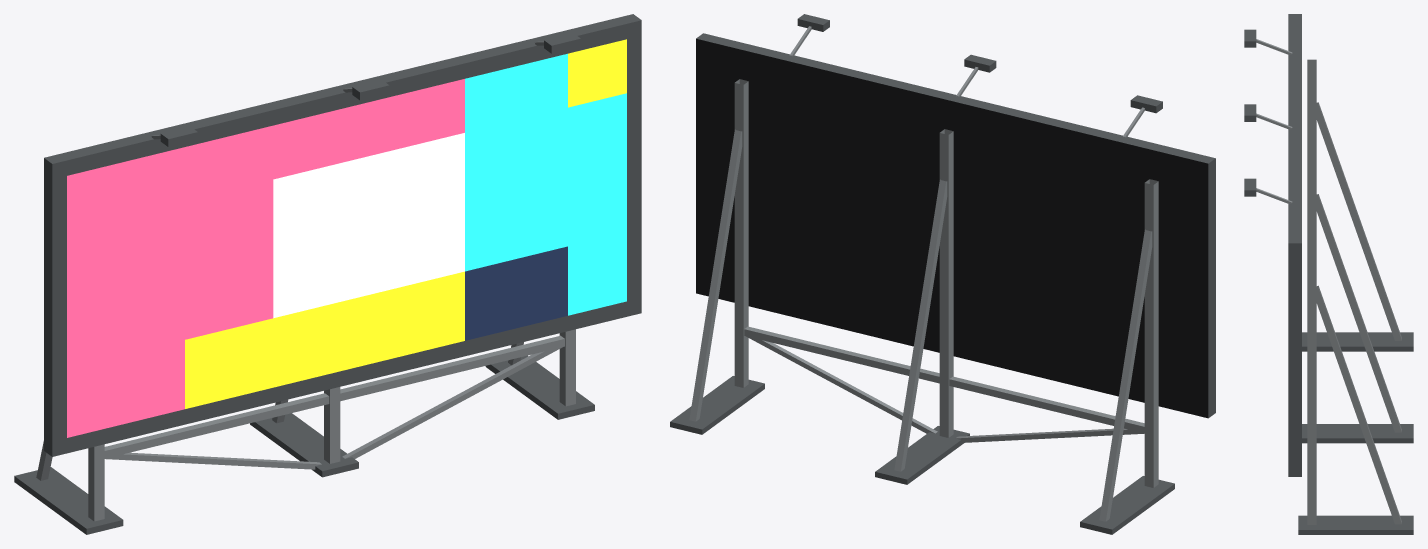
File: tokyo_billboard_roof.glb
The picture shows the model from 3 angles, left to right: view 1: azimuth 30°, elevation 25°; view 2: azimuth 150°, elevation 25°; view 3: azimuth 270°, elevation 25°; orthographic projection. The views are drawn at different scales.
Parts seen in each view (by area): view 1: tokyo_billboard_roof; view 2: tokyo_billboard_roof; view 3: tokyo_billboard_roof.
Part boxes in pixels (<box>): tokyo_billboard_roof: <box>14,14,641,534</box>; tokyo_billboard_roof: <box>670,14,1215,534</box>; tokyo_billboard_roof: <box>1244,14,1413,534</box>.
Size of the model in its own units: 8 by 5.34 by 2.5.
1 material, 1 textured.
